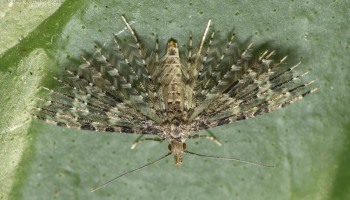Alucitidae: (19, 11, 320, 192)
moth: (21, 13, 322, 194)
